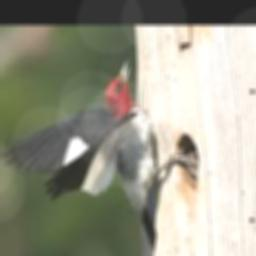Woodpecker: (3, 60, 196, 249)
